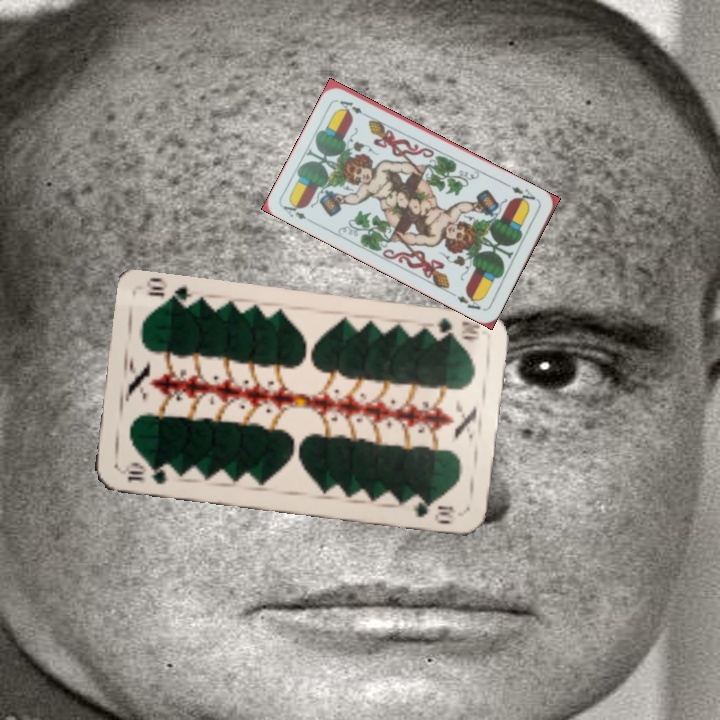EA: (279, 197, 317, 227), (507, 182, 541, 208)
G10: (426, 313, 483, 343), (116, 460, 170, 487)
